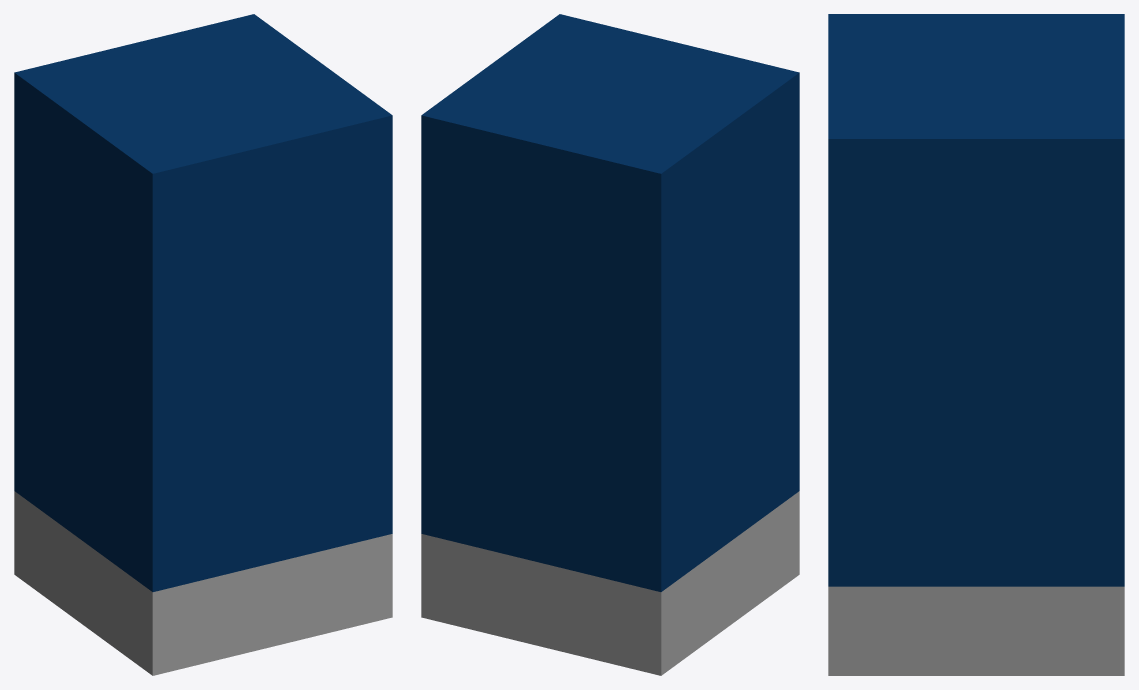
Rendered from LEG_BOTTOM.obj.
The picture shows the model from 3 angles, left to right: view 1: azimuth 30°, elevation 25°; view 2: azimuth 150°, elevation 25°; view 3: azimuth 270°, elevation 25°; orthographic projection. The views are drawn at different scales.
Bounding box in the file's own units: 0.3 × 0.6 × 0.3.
1 material, 1 textured.
